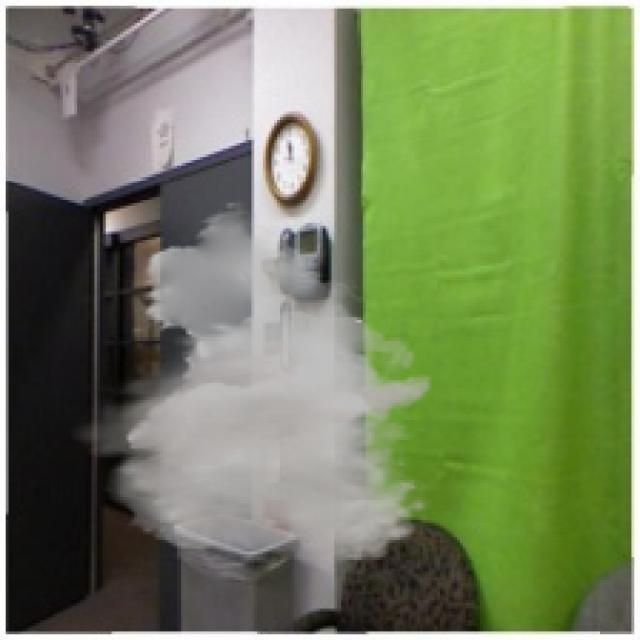Smoke: (66, 200, 434, 563)
